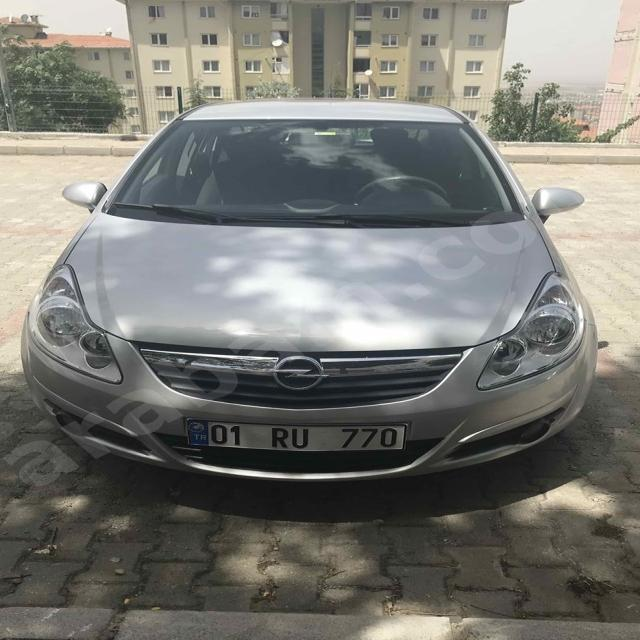license_plate: (186, 418, 408, 451)
